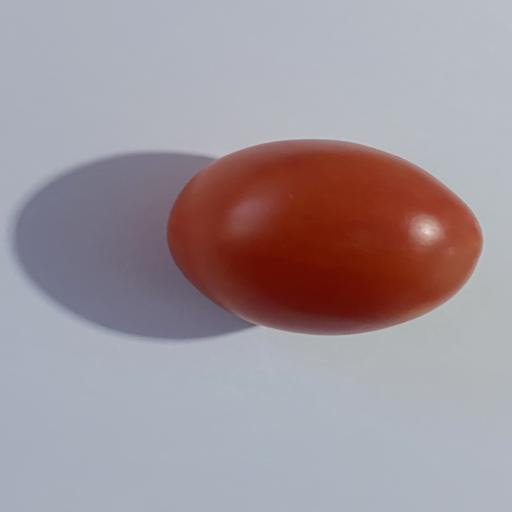ripe: (168, 140, 482, 335)
